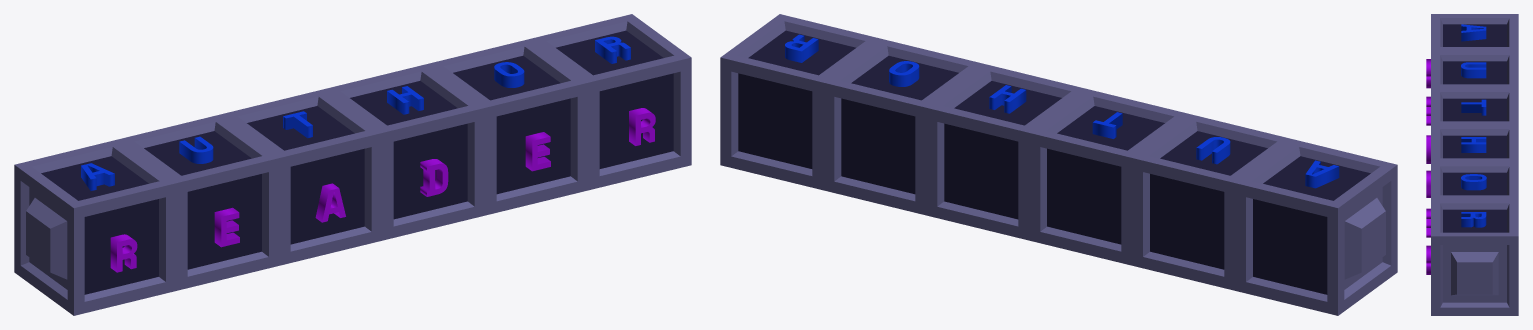
The model's file is roller_upgrade.glb.
The picture shows the model from 3 angles, left to right: view 1: azimuth 30°, elevation 25°; view 2: azimuth 150°, elevation 25°; view 3: azimuth 270°, elevation 25°; orthographic projection. The views are drawn at different scales.
Parts seen in each view (by area): view 1: Cube, Reader, Author; view 2: Cube, Author; view 3: Cube, Author, Reader.
Boxes of the visible parts, bbox=[...] form: Cube: bbox=[14, 14, 691, 315]; Reader: bbox=[110, 108, 655, 272]; Author: bbox=[81, 36, 630, 190]; Cube: bbox=[720, 14, 1397, 315]; Author: bbox=[785, 34, 1339, 188]; Cube: bbox=[1431, 14, 1518, 315]; Author: bbox=[1461, 24, 1486, 227]; Reader: bbox=[1426, 59, 1430, 274].
Bounding box in the file's own units: 12.23 × 2.16 × 2.11.
